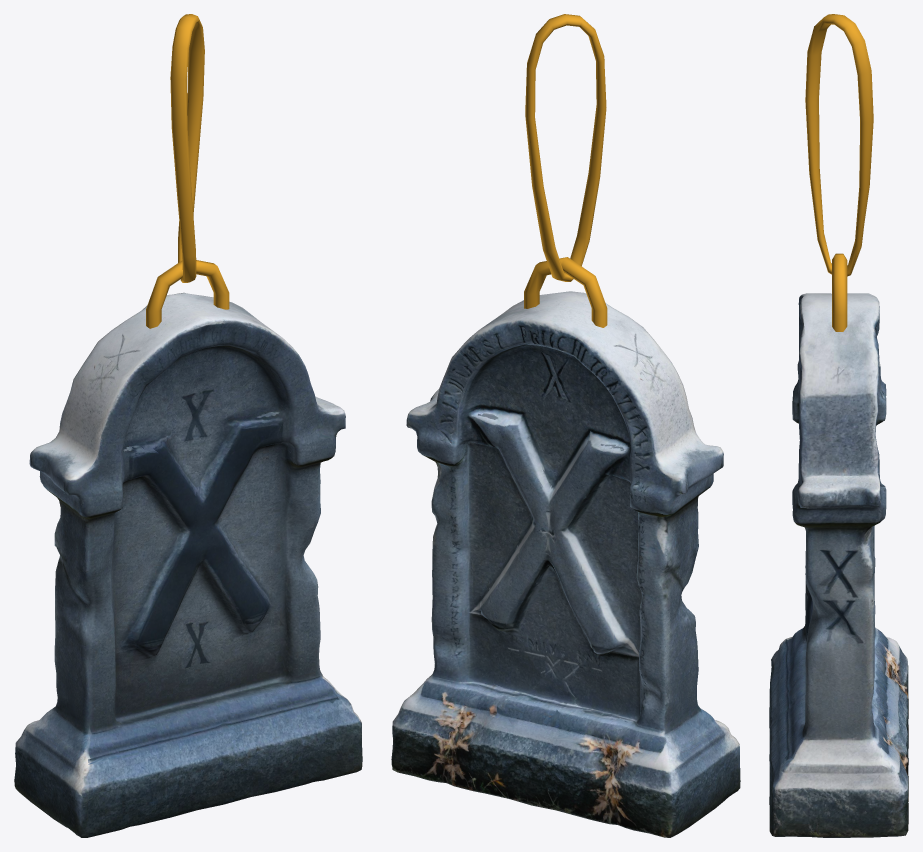
Rendered from Ball_GenX.fbx.
3 renders of one model, left to right at view 1: azimuth 30°, elevation 25°; view 2: azimuth 150°, elevation 25°; view 3: azimuth 270°, elevation 25°, orthographic.
Visible parts, largest first — view 1: Ball_GenX; view 2: Ball_GenX; view 3: Ball_GenX.
Boxes of the visible parts, x1,y1,x2,y2 form: Ball_GenX: (14,14,362,837); Ball_GenX: (391,14,740,837); Ball_GenX: (769,14,908,837).
Size of the model in its own units: 3.18 by 8.11 by 1.36.
